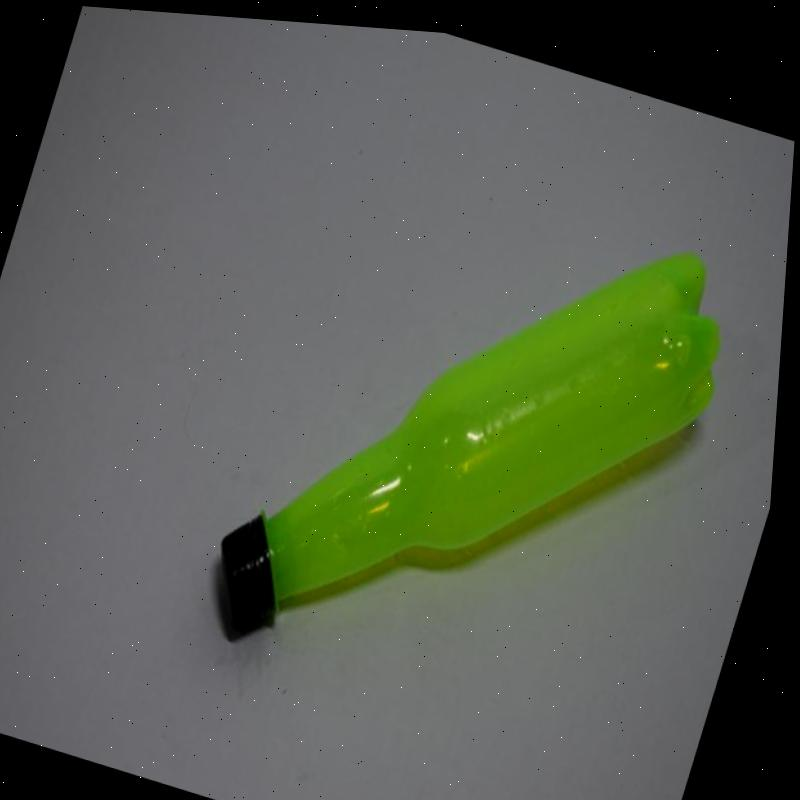botella: (196, 136, 756, 755)
